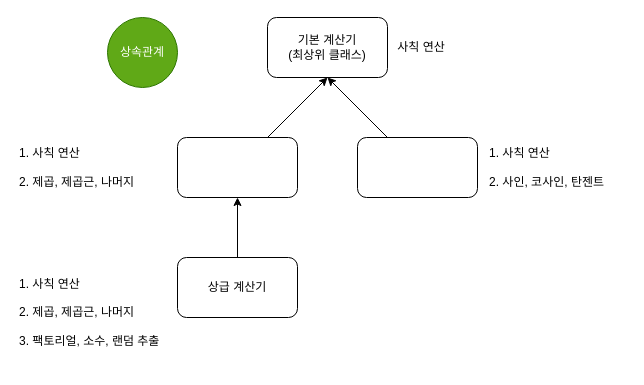
Some shapes in this 644 by 385 pixel diagram are drawn without their labels. The centre of each missing label's shape, as x and y in pixels:
"삼각 계산기" goes at point (417, 167).
"중급 계산기" goes at point (237, 167).
